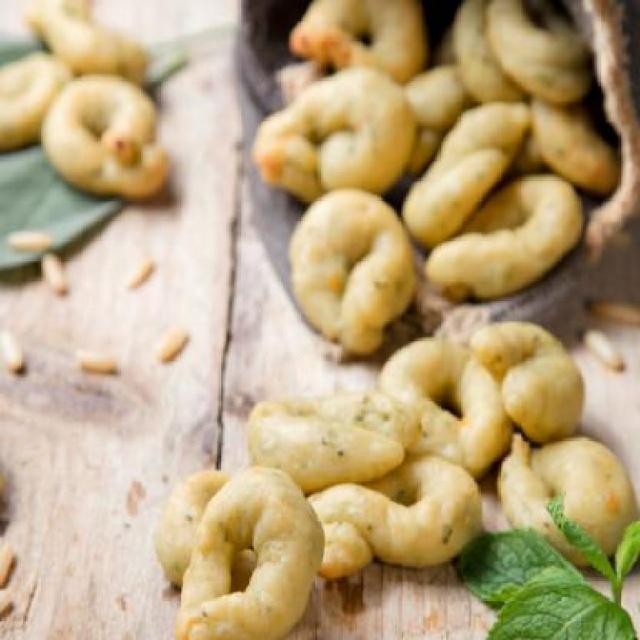Taralli: (158, 353, 640, 639)
